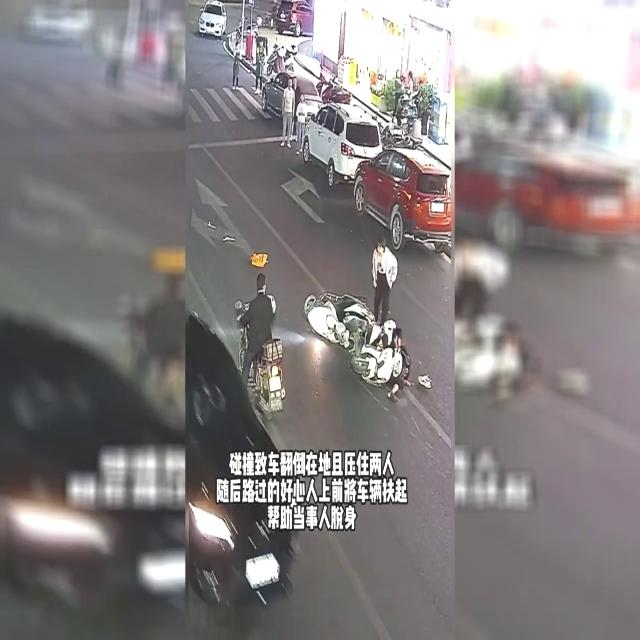accident: (301, 290, 437, 406)
non-accident: (301, 103, 453, 253), (260, 69, 382, 189)
